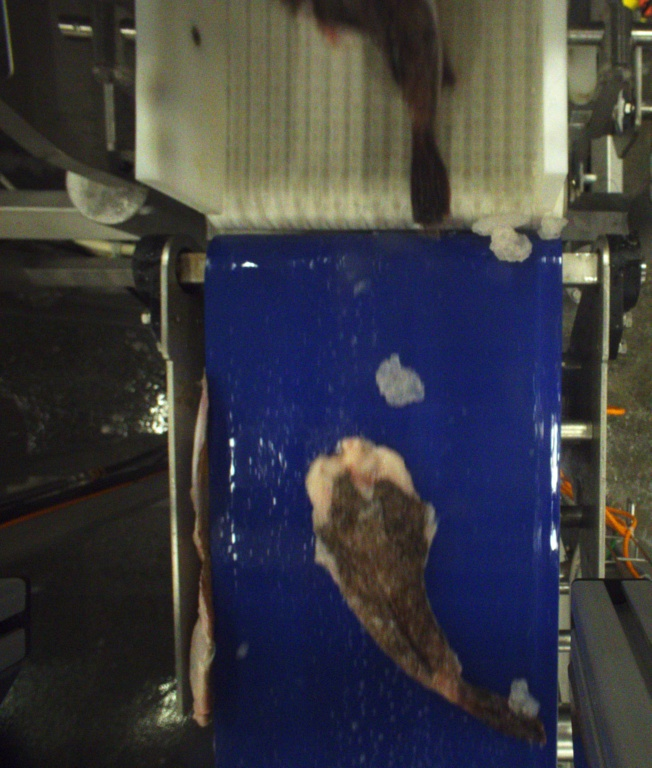ANF: (287, 0, 454, 226)
